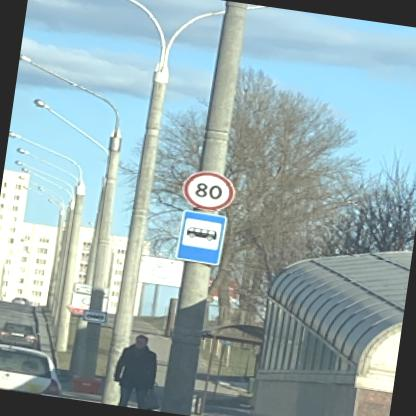speedlimit: (178, 167, 235, 212)
